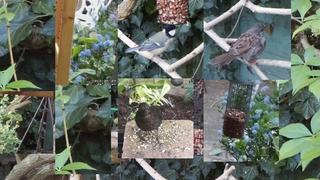blackbird: (134, 102, 169, 147)
dunnock: (208, 24, 267, 68)
great tit: (124, 24, 180, 65)
